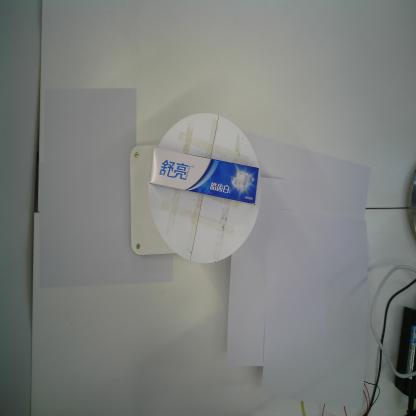Personal Hygiene: (150, 145, 258, 205)
